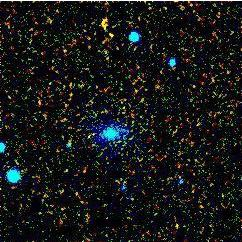star: (88, 8, 118, 38)
